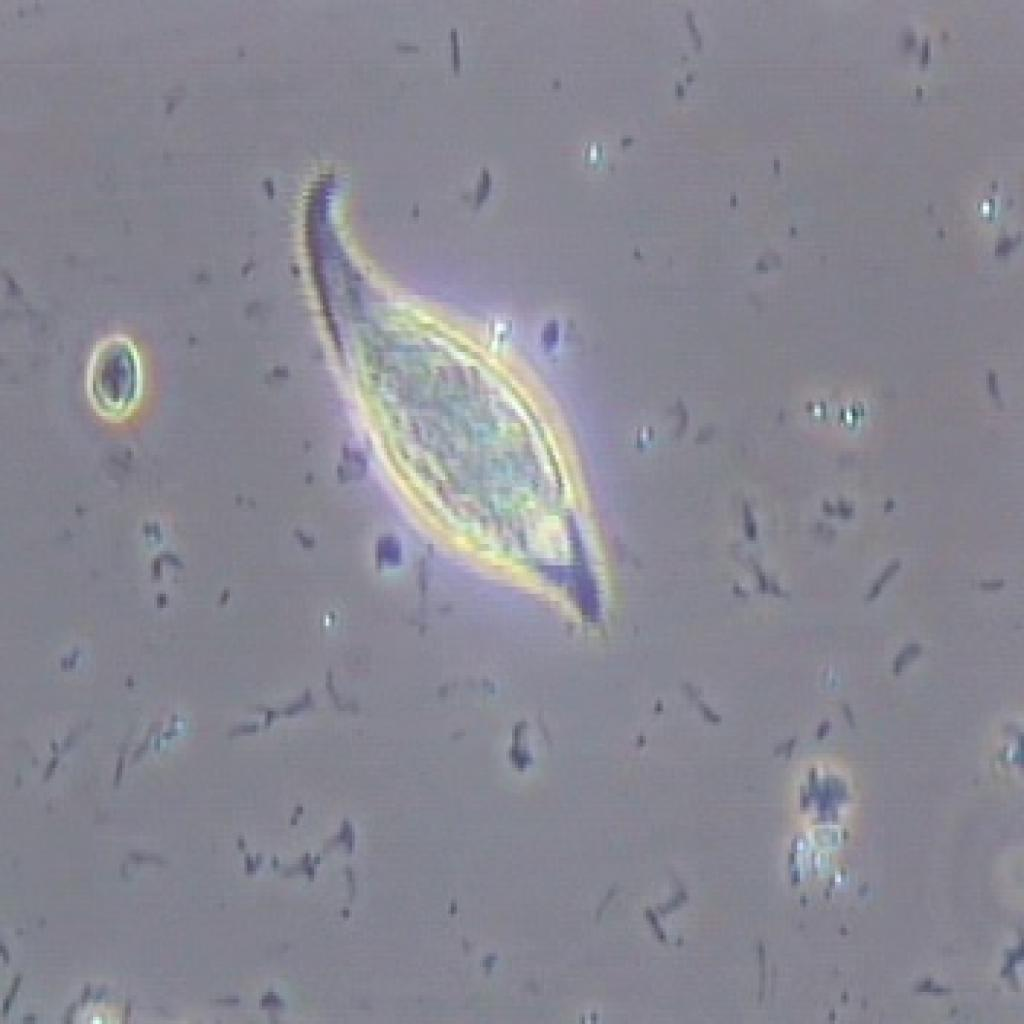Pristina: (252, 135, 624, 679)
